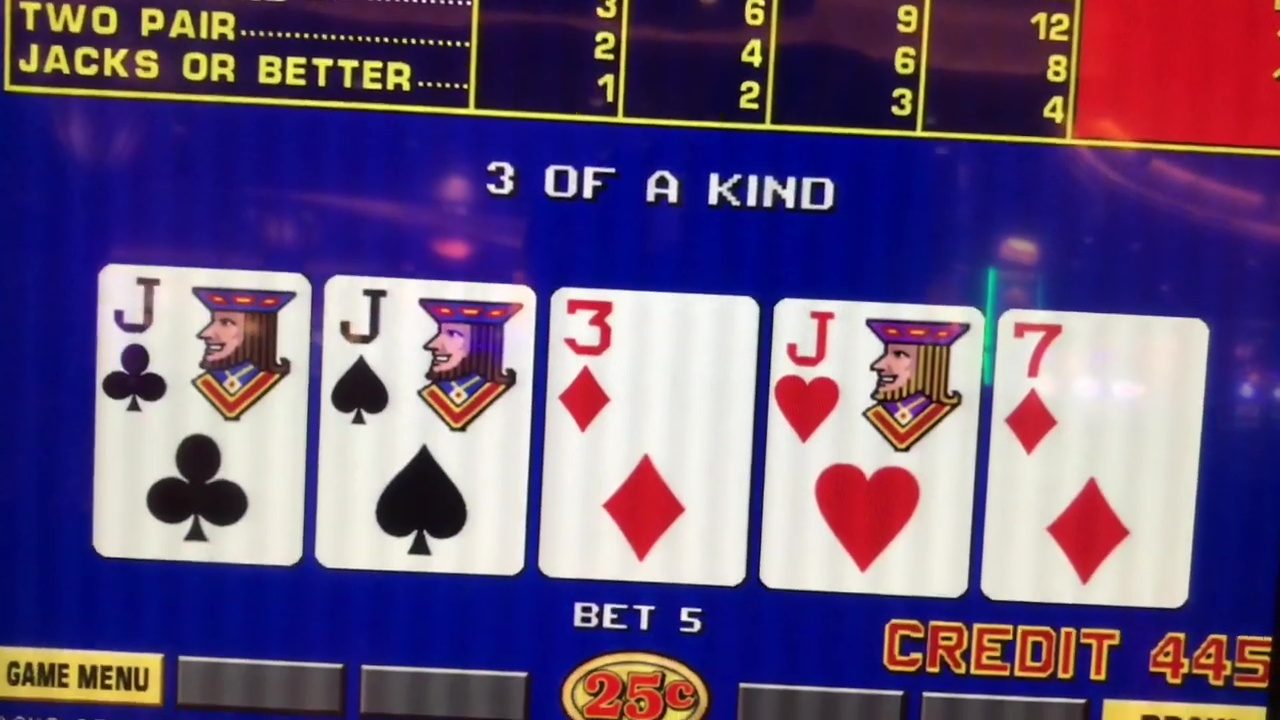CJ: (107, 271, 287, 413)
D3: (559, 299, 740, 434)
D7: (1003, 313, 1185, 457)
HJ: (778, 308, 961, 449)
SJ: (332, 285, 517, 426)
